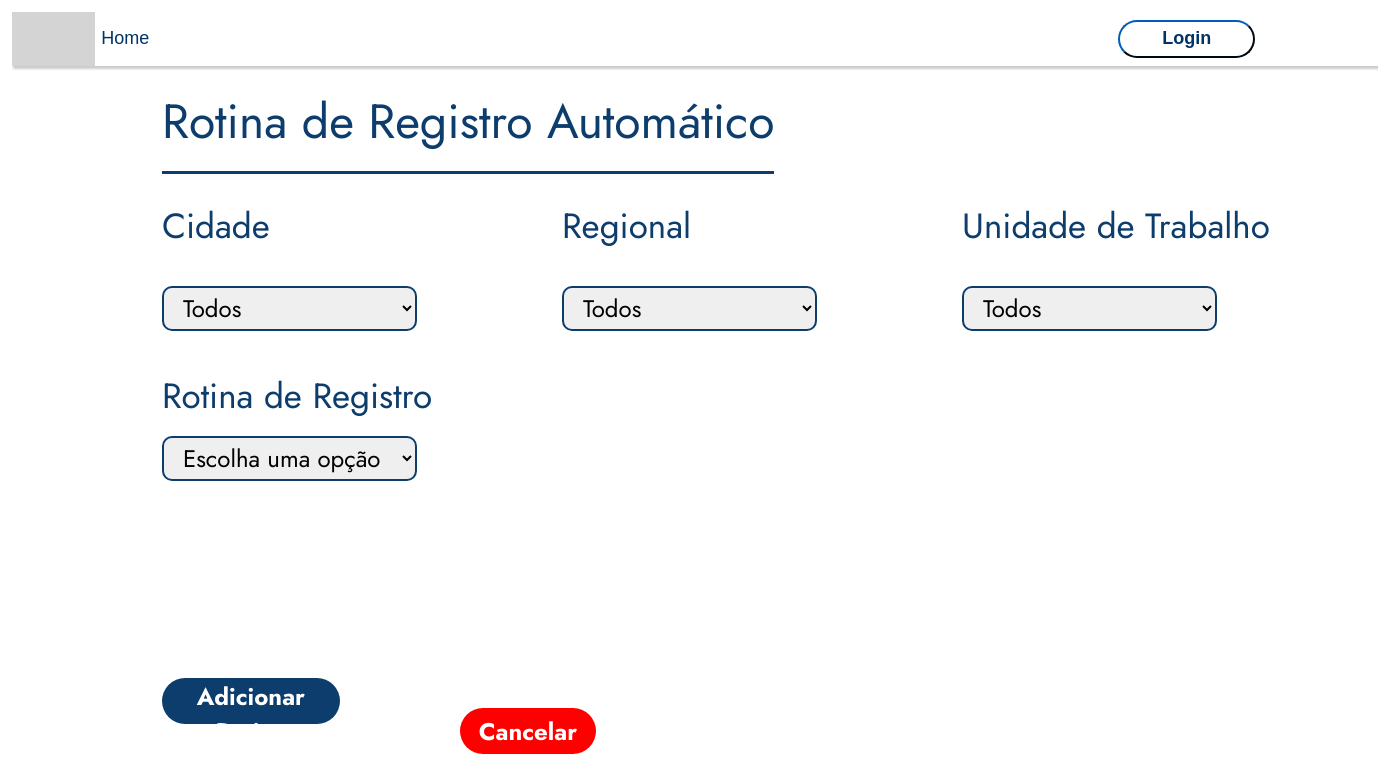
Test: UpdateRoutine › should show errors when time and interval are not selected for "Mensalmente" routine
Step 1. Select "Mensalmente" in the dropdown labelled "Rotina de Registro" → point(290, 458), box [162,436,417,481]
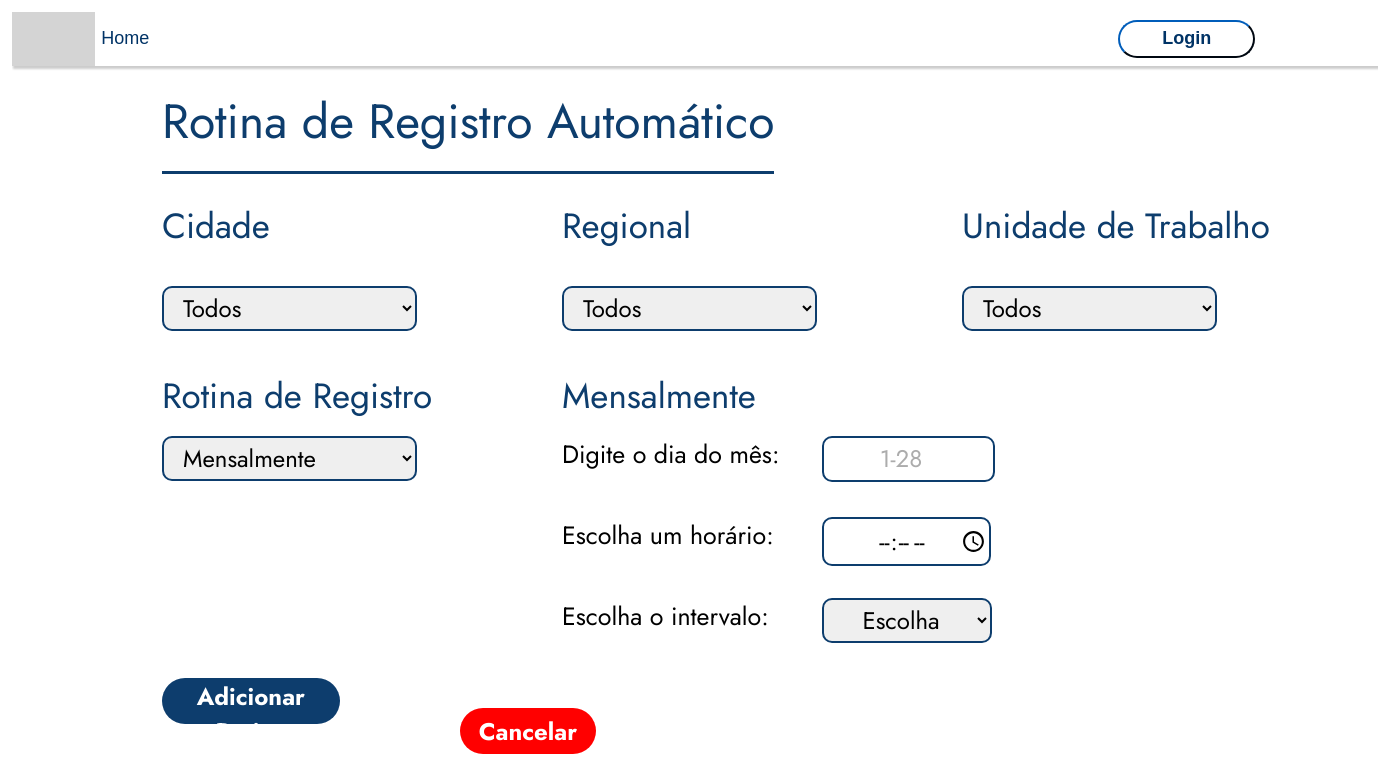
Step 2. Click the button "Adicionar Rotina" → point(251, 701), box [162,678,340,724]
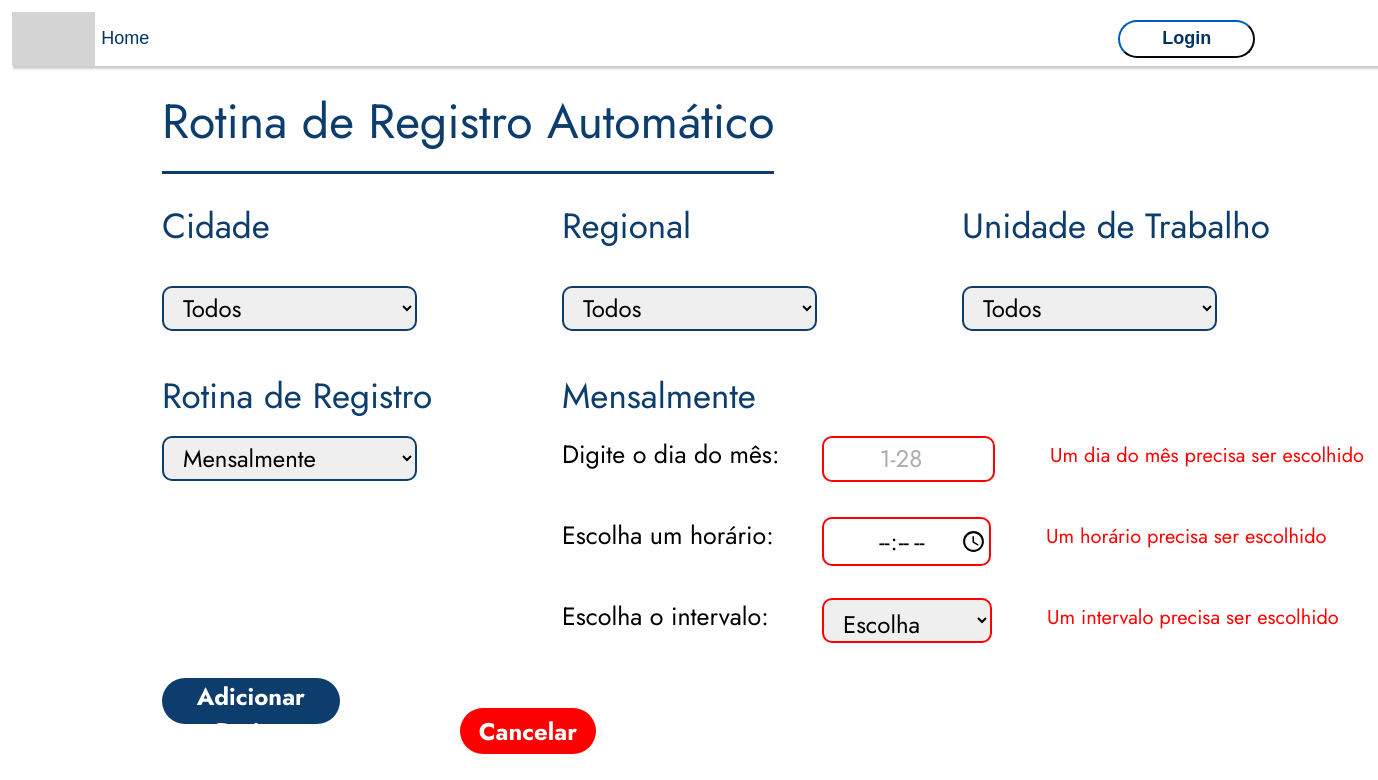
Result: the text "Um horário precisa ser escolhido" is shown at [1046,522,1326,551]
Result: the text "Um intervalo precisa ser escolhido" is shown at [1047,603,1339,632]
Step 3. Type "14:00" into the time field labelled "Escolha um horário:" → point(906, 541), box [822,517,991,566]
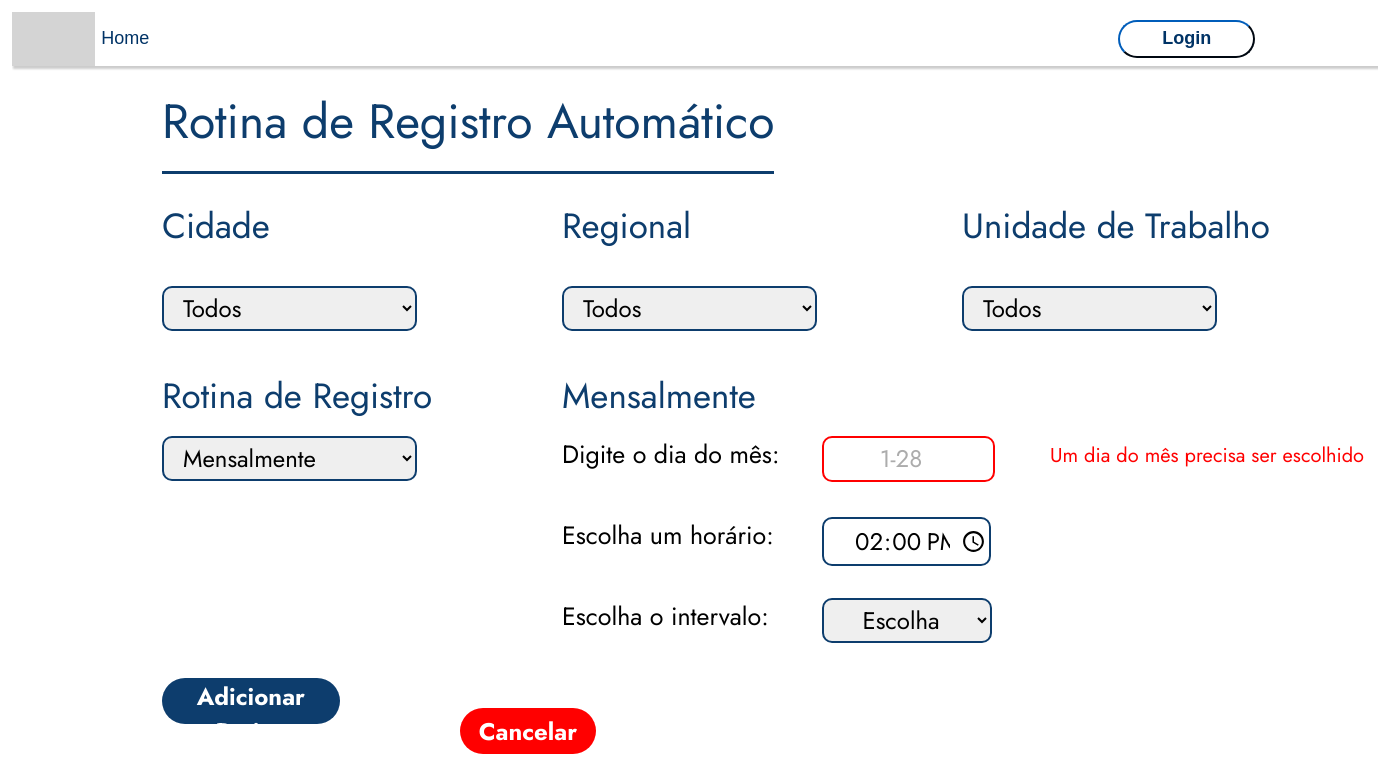
Result: the text "Um horário precisa ser escolhido" is gone
Result: the text "Um intervalo precisa ser escolhido" is gone
